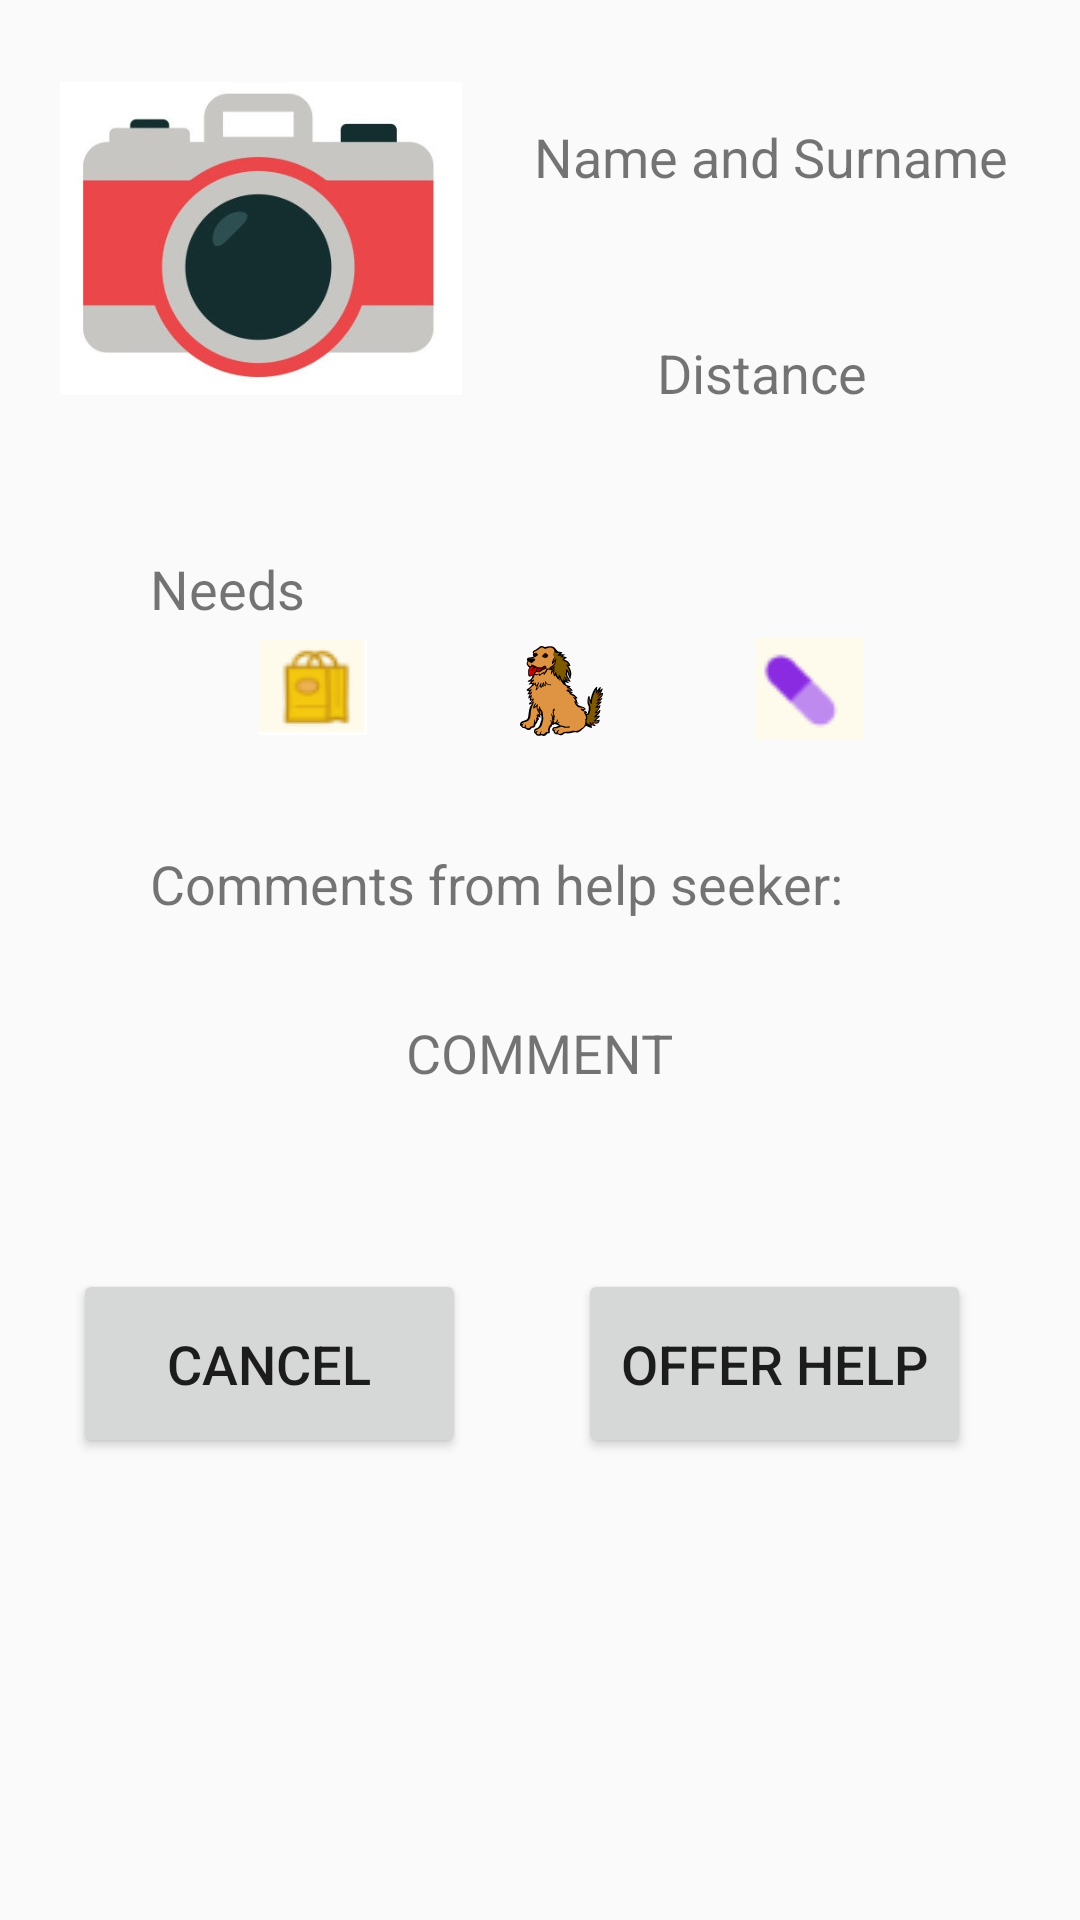

Where to tap for icons on this 1080x1920 app screen, as (x=x, y=y):
camera: (x=258, y=236)
dog: (x=561, y=691)
medicines: (x=800, y=690)
shop: (x=316, y=687)
